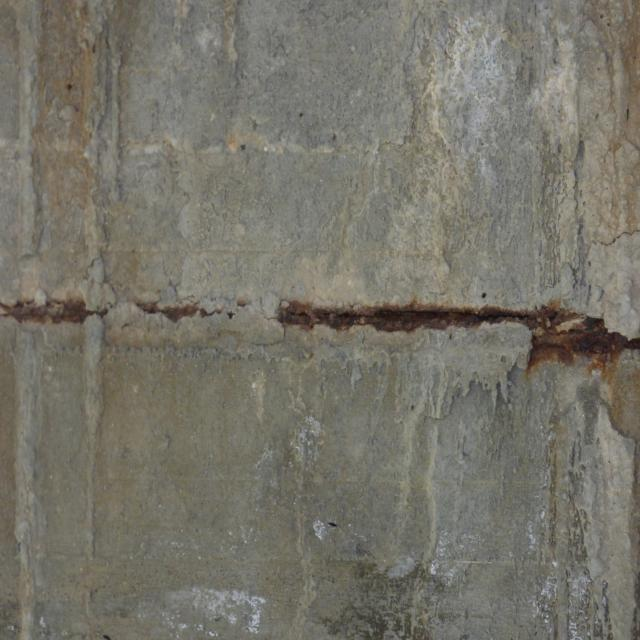corrosion: (265, 293, 640, 386), (0, 283, 225, 331)
